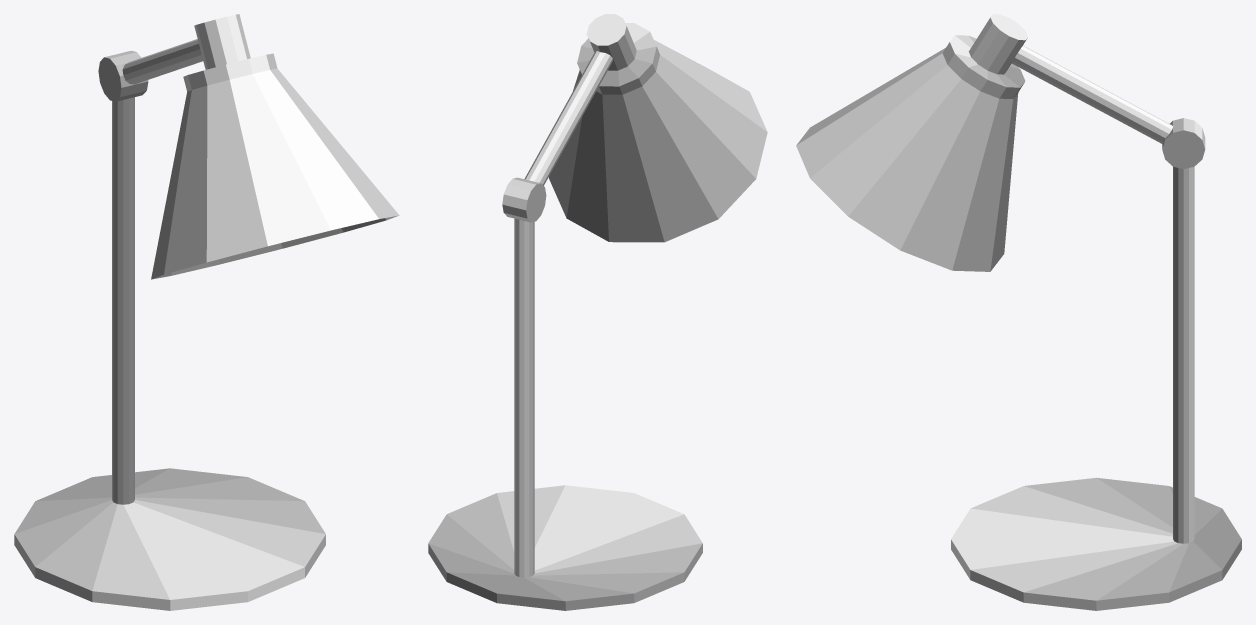
The model's file is table_lamp.fbx.
3 views of the same model, side by side, from view 1: azimuth 30°, elevation 25°; view 2: azimuth 150°, elevation 25°; view 3: azimuth 270°, elevation 25° (orthographic). The views are drawn at different scales.
Visible parts, largest first — view 1: Circle.002; view 2: Circle.002; view 3: Circle.002.
Part boxes in pixels (<box>): Circle.002: <box>14,14,399,610</box>; Circle.002: <box>428,14,767,610</box>; Circle.002: <box>796,14,1241,610</box>.
Size of the model in its own units: 100 by 202 by 153.
